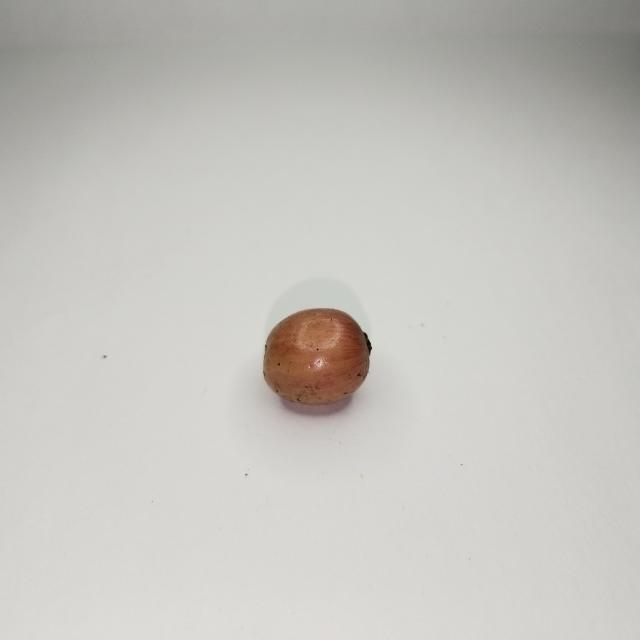Sano: (263, 308, 371, 408)
